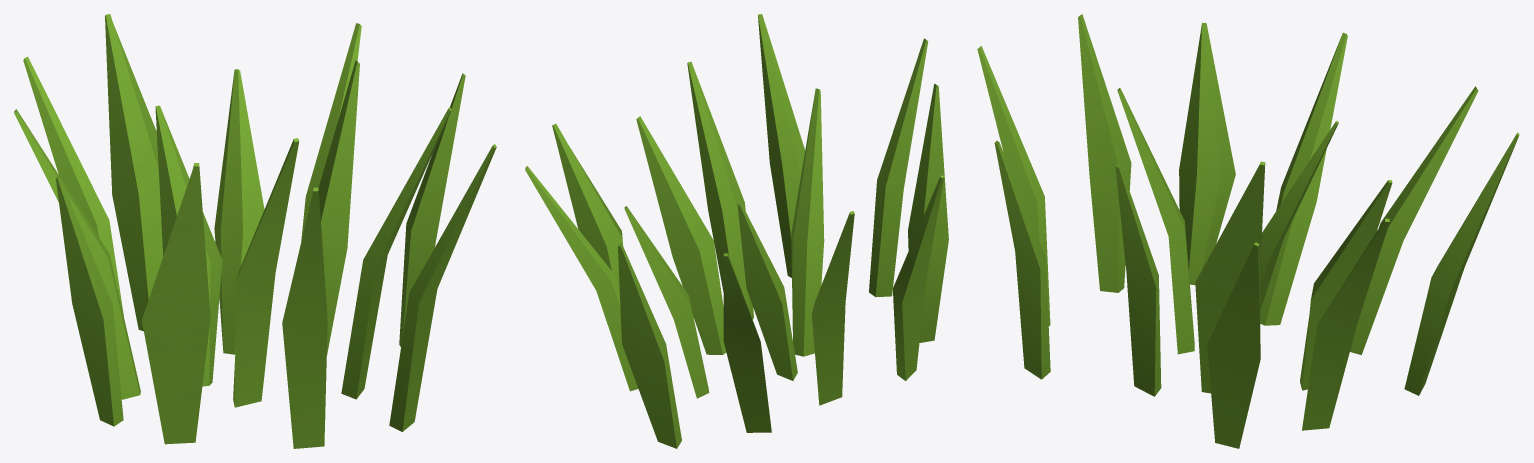
The model's file is Grass_04.fbx.
3 views of the same model, side by side, from view 1: azimuth 30°, elevation 25°; view 2: azimuth 150°, elevation 25°; view 3: azimuth 270°, elevation 25° (orthographic). The views are drawn at different scales.
Parts seen in each view (by area): view 1: Grass_04; view 2: Grass_04; view 3: Grass_04.
Boxes of the visible parts, left/top/right/bottom form: Grass_04: left=14, top=14, right=496, bottom=448; Grass_04: left=525, top=14, right=948, bottom=448; Grass_04: left=977, top=14, right=1519, bottom=448.
Bounding box in the file's own units: 41.14 × 29.81 × 46.97.
